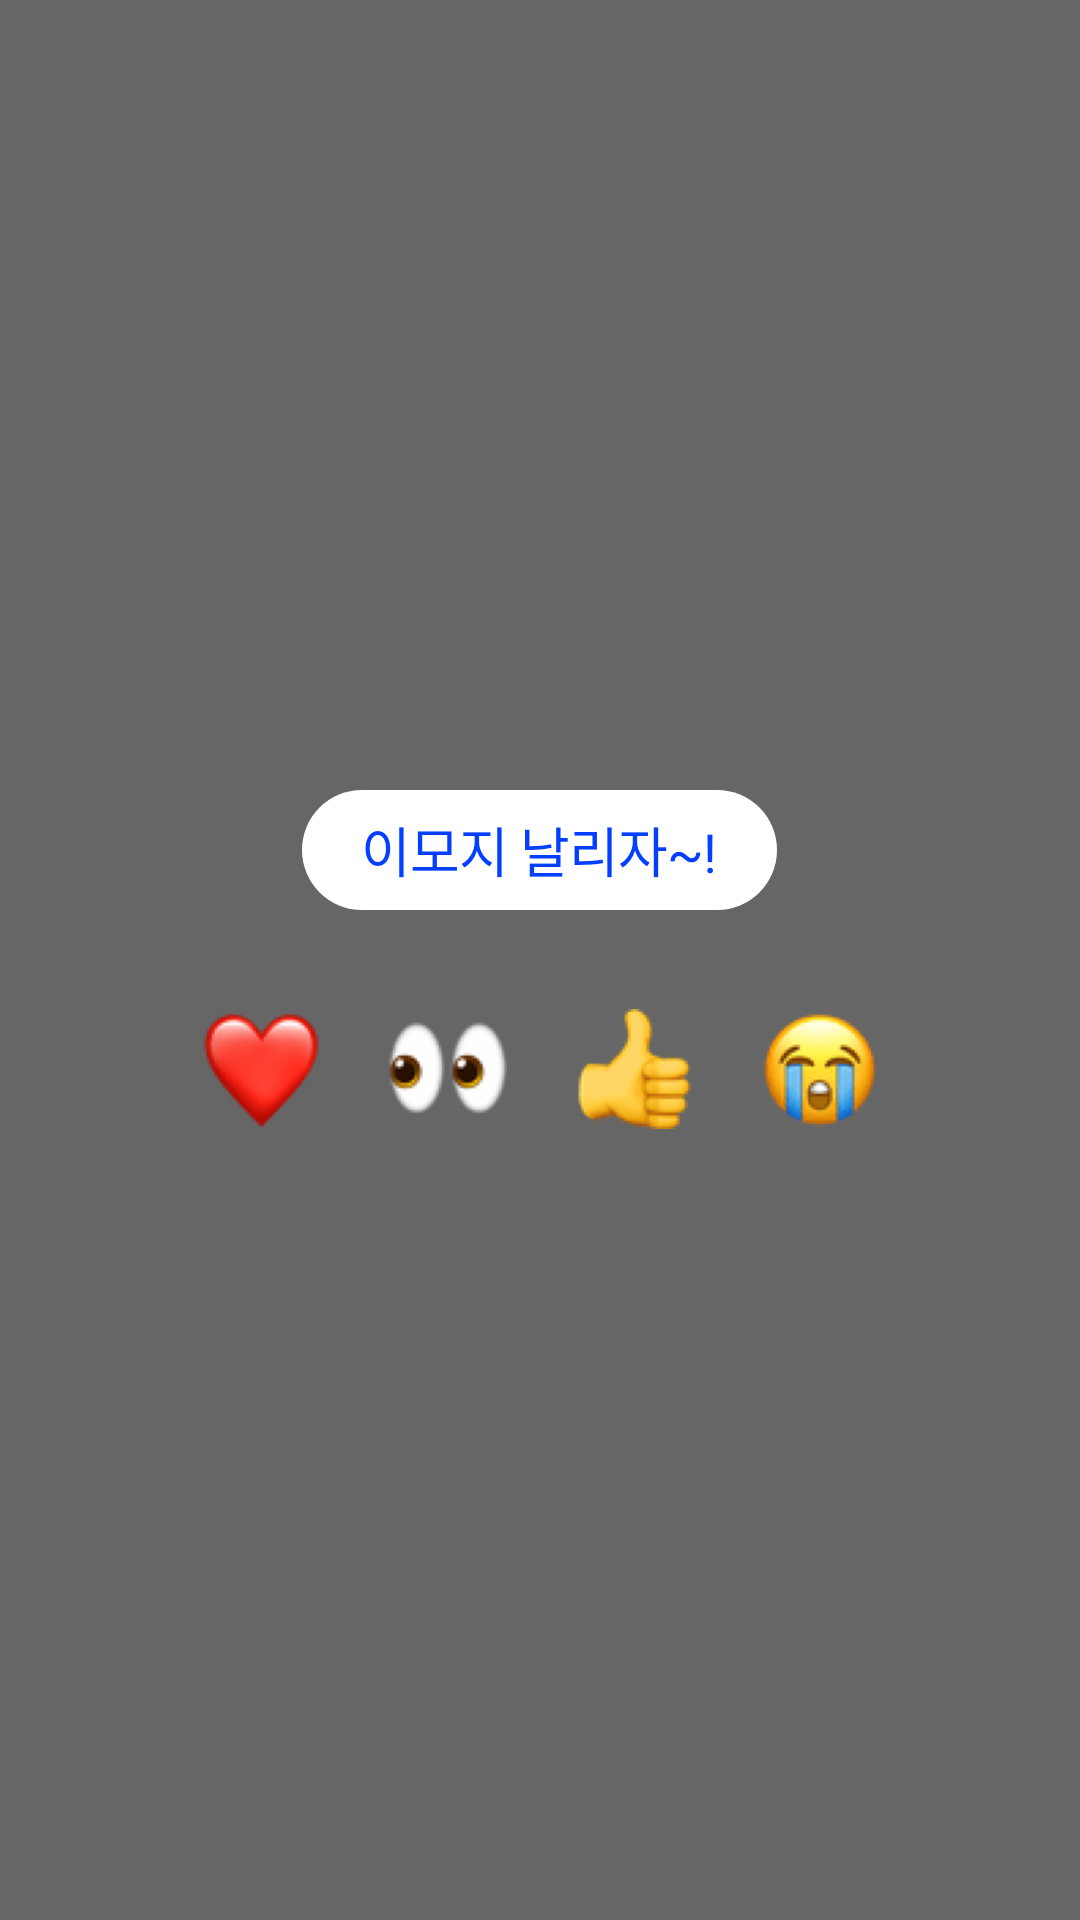

Screen size 1080x1920. Icon name, then its box in pixels as [x1=x1, y1=y1, x2=x2, y2=y2]:
emo cry: [x1=764, y1=1014, x2=875, y2=1125]
emo eyes: [x1=390, y1=1023, x2=507, y2=1113]
emo good: [x1=578, y1=1009, x2=691, y2=1129]
emo heart: [x1=204, y1=1014, x2=319, y2=1127]
